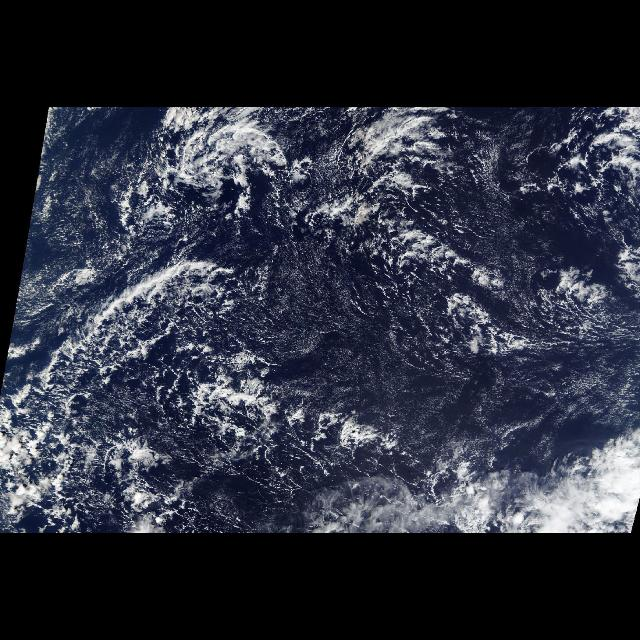Sugar: (232, 258, 624, 436)
